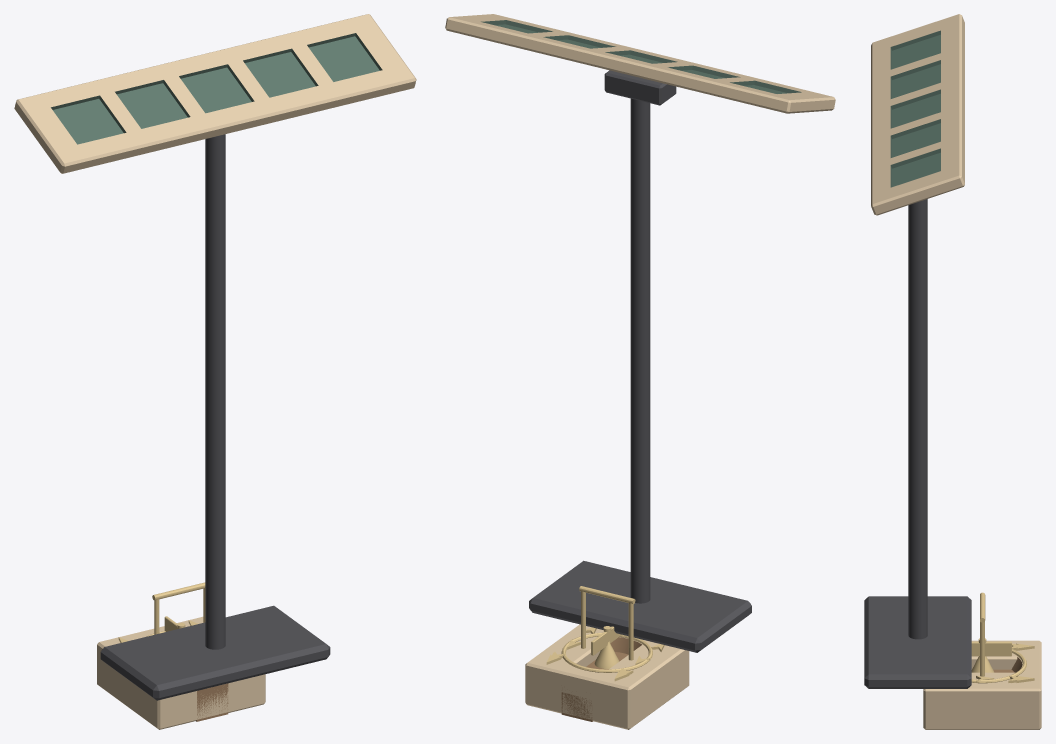
The model's file is marble_blocks.glb.
3 views of the same model, side by side, from view 1: azimuth 30°, elevation 25°; view 2: azimuth 150°, elevation 25°; view 3: azimuth 270°, elevation 25° (orthographic). The views are drawn at different scales.
Visible parts, largest first — view 1: Tray, Bell, Drop, BellArch; view 2: Tray, Bell, Drop, BellArch; view 3: Tray, Bell, Drop, SplitterVane, BellArch.
Boxes of the visible parts, box(x1,y1,x2,y2) form: Tray: box(14, 14, 416, 700); Bell: box(97, 616, 265, 729); Drop: box(100, 617, 264, 729); BellArch: box(152, 582, 205, 634); Tray: box(445, 14, 835, 652); Bell: box(525, 624, 689, 729); Drop: box(526, 625, 680, 728); BellArch: box(579, 586, 635, 660); Tray: box(864, 14, 971, 688); Bell: box(923, 640, 1041, 729); Drop: box(971, 641, 1041, 689); SplitterVane: box(971, 638, 1011, 656); BellArch: box(980, 592, 985, 676).
Size of the model in its own units: 0.72 by 1.26 by 0.33.
